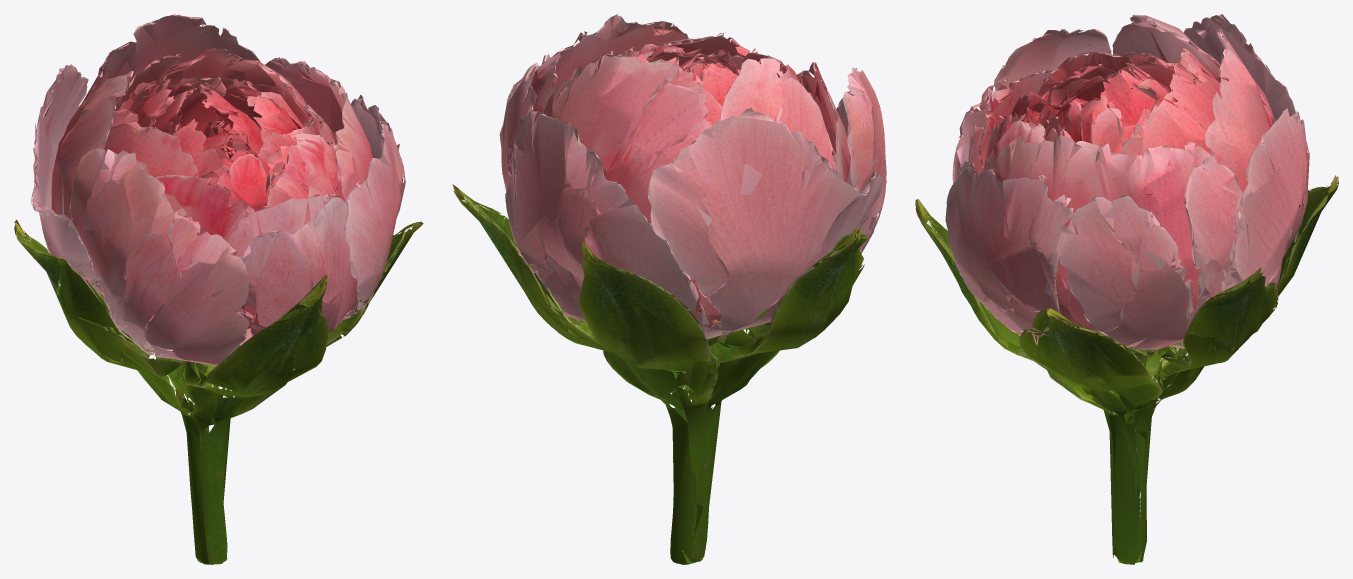
Rendered from peony_bud.glb.
The picture shows the model from 3 angles, left to right: view 1: azimuth 30°, elevation 25°; view 2: azimuth 150°, elevation 25°; view 3: azimuth 270°, elevation 25°; orthographic projection. The views are drawn at different scales.
Parts seen in each view (by area): view 1: peony_bud; view 2: peony_bud; view 3: peony_bud.
Boxes of the visible parts, x1,y1,x2,y2 form: peony_bud: (14,14,423,564); peony_bud: (452,14,886,564); peony_bud: (915,14,1338,564).
Bounding box in the file's own units: 0.7212 × 1 × 0.7414.
Materials: 1 (1 with a texture image).
